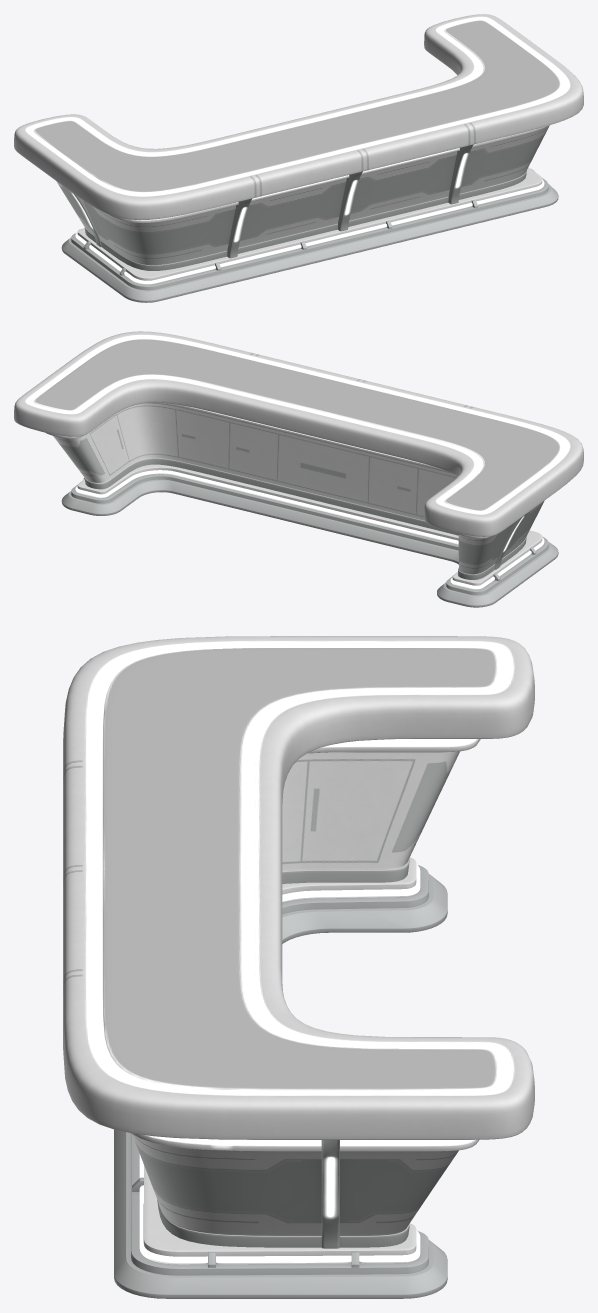
File: BartenderTable02_1.FBX
3 views of the same model, one above another, from view 1: azimuth 30°, elevation 25°; view 2: azimuth 150°, elevation 25°; view 3: azimuth 270°, elevation 25° (orthographic). The views are drawn at different scales.
Parts seen in each view (by area): view 1: BartenderTable02_1; view 2: BartenderTable02_1; view 3: BartenderTable02_1.
Part boxes in pixels (x1=…): BartenderTable02_1: x1=14, y1=14, x2=583, y2=302; BartenderTable02_1: x1=14, y1=331, x2=583, y2=607; BartenderTable02_1: x1=63, y1=636, x2=534, y2=1298.
Size of what is drawn, in the model's own units: 5.06 by 1.1 by 2.14.
